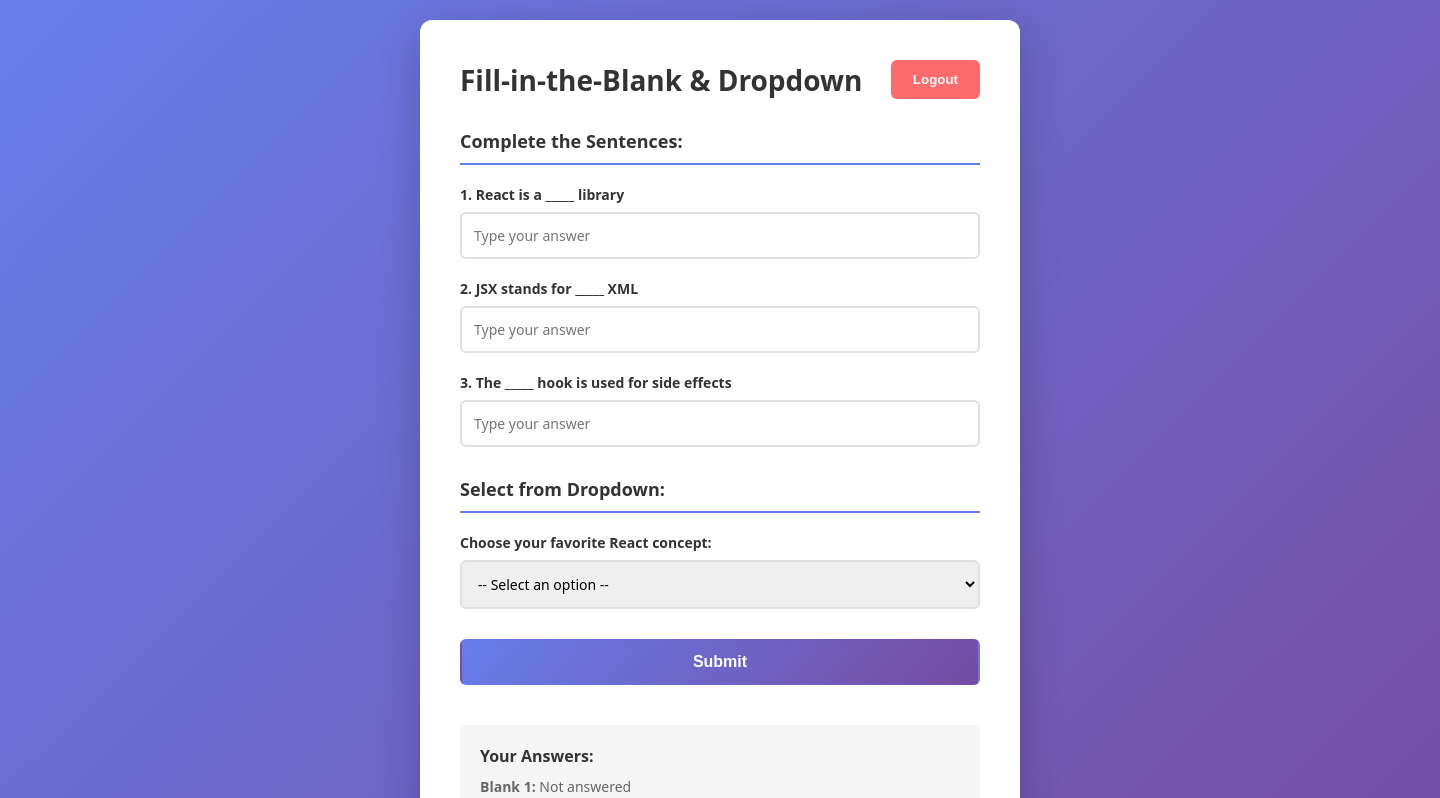
it: FormInteractionsPage - Jest Unit Tests › TEST 5: form submits successfully when all fields are filled
In the field labelled "1. React is a _____ library": point(720, 236) [460,212,980,259], type "JavaScript"
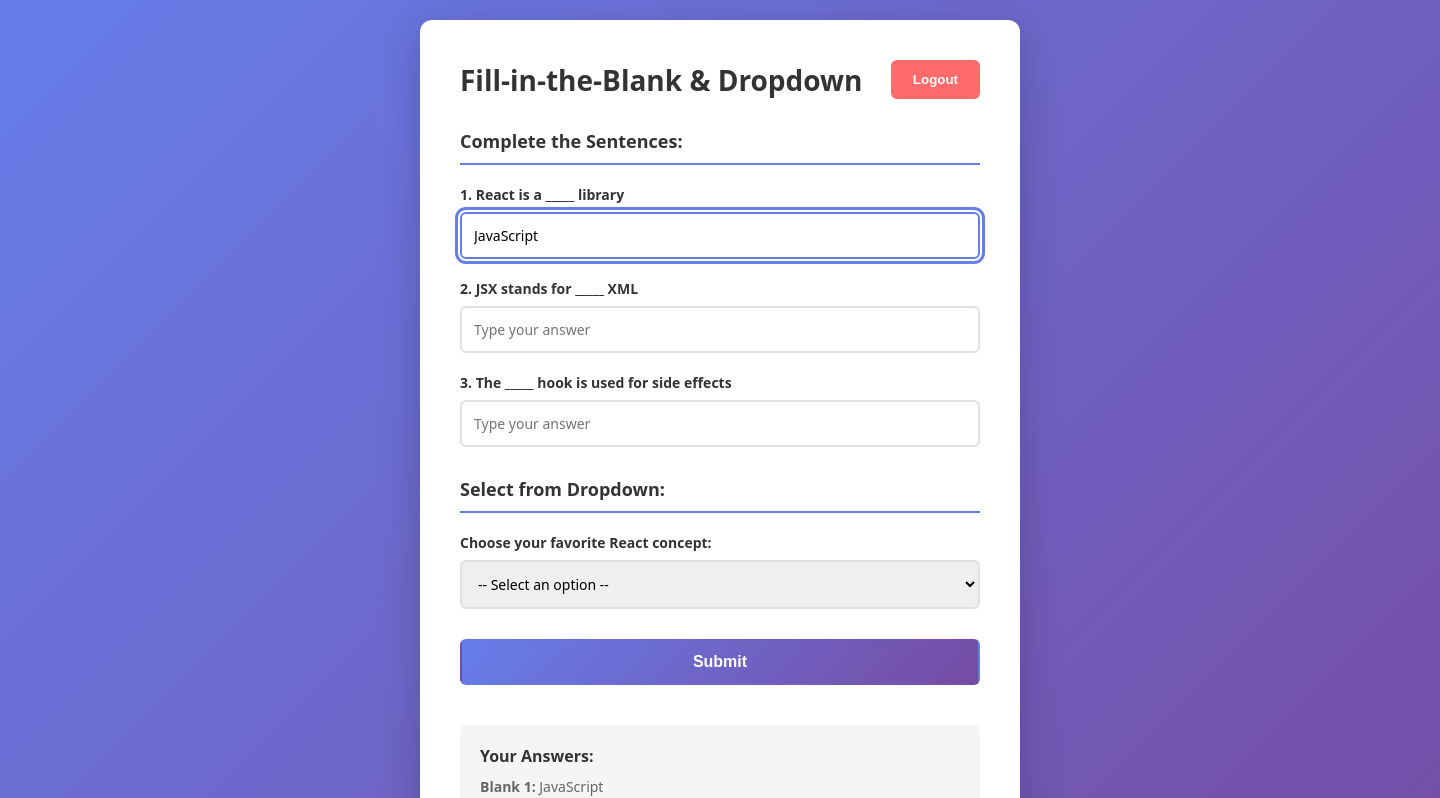
In the field labelled "2. JSX stands for _____ XML": point(720, 330) [460,306,980,353], type "JavaScript"
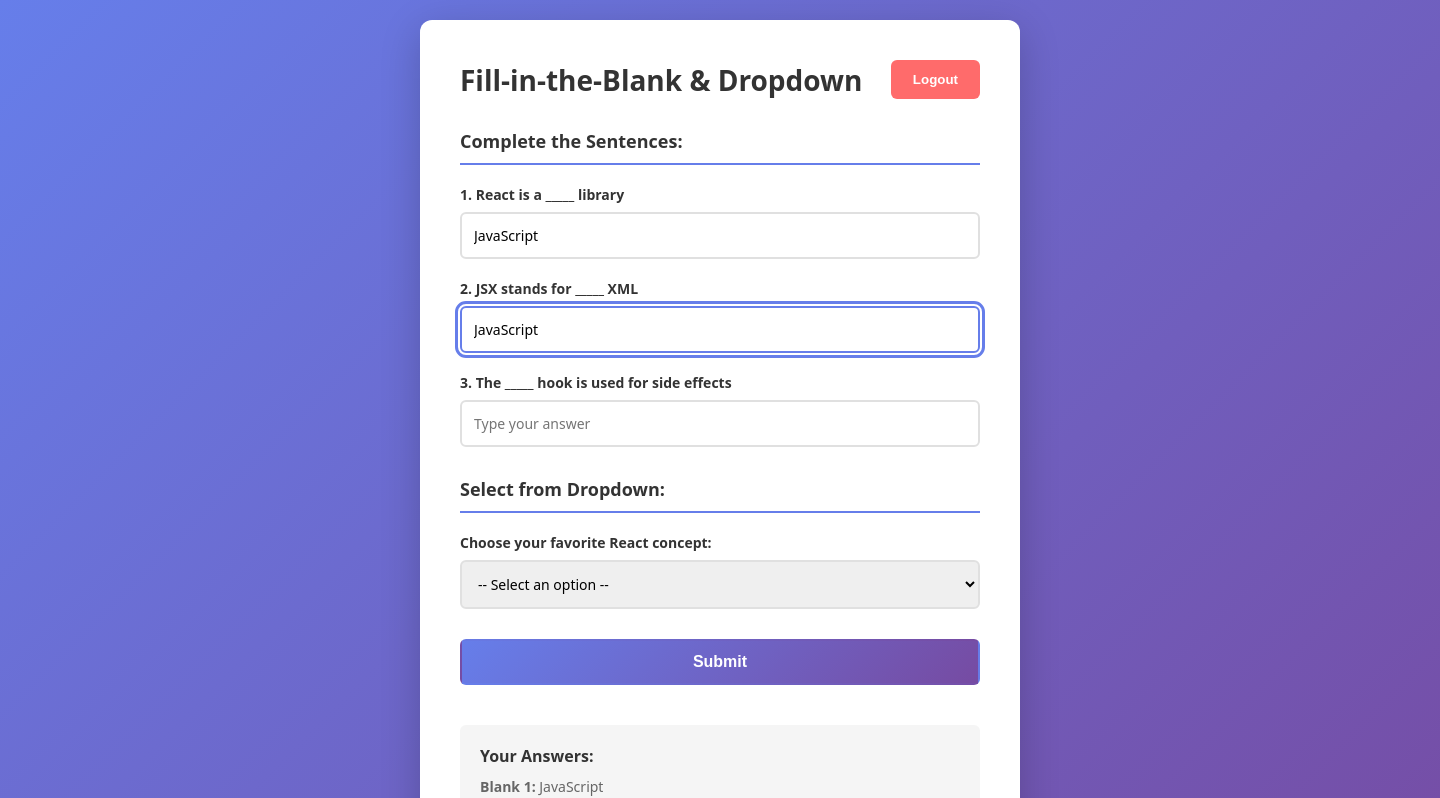
In the field labelled "3. The _____ hook is used for side effects": point(720, 424) [460,400,980,447], type "useEffect"
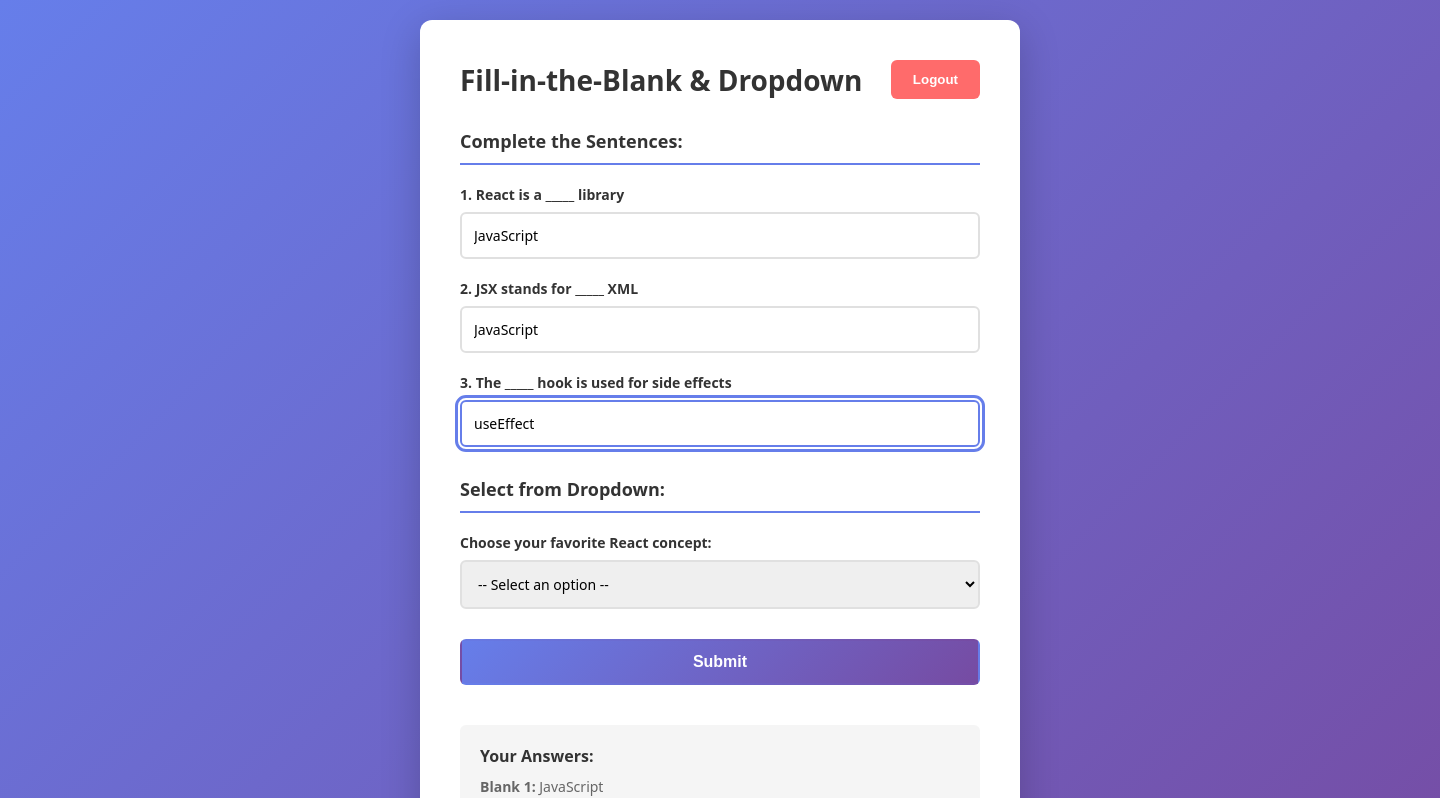
Select "Hooks" in the dropdown labelled "Choose your favorite React concept:": point(720, 584) [460,560,980,609]
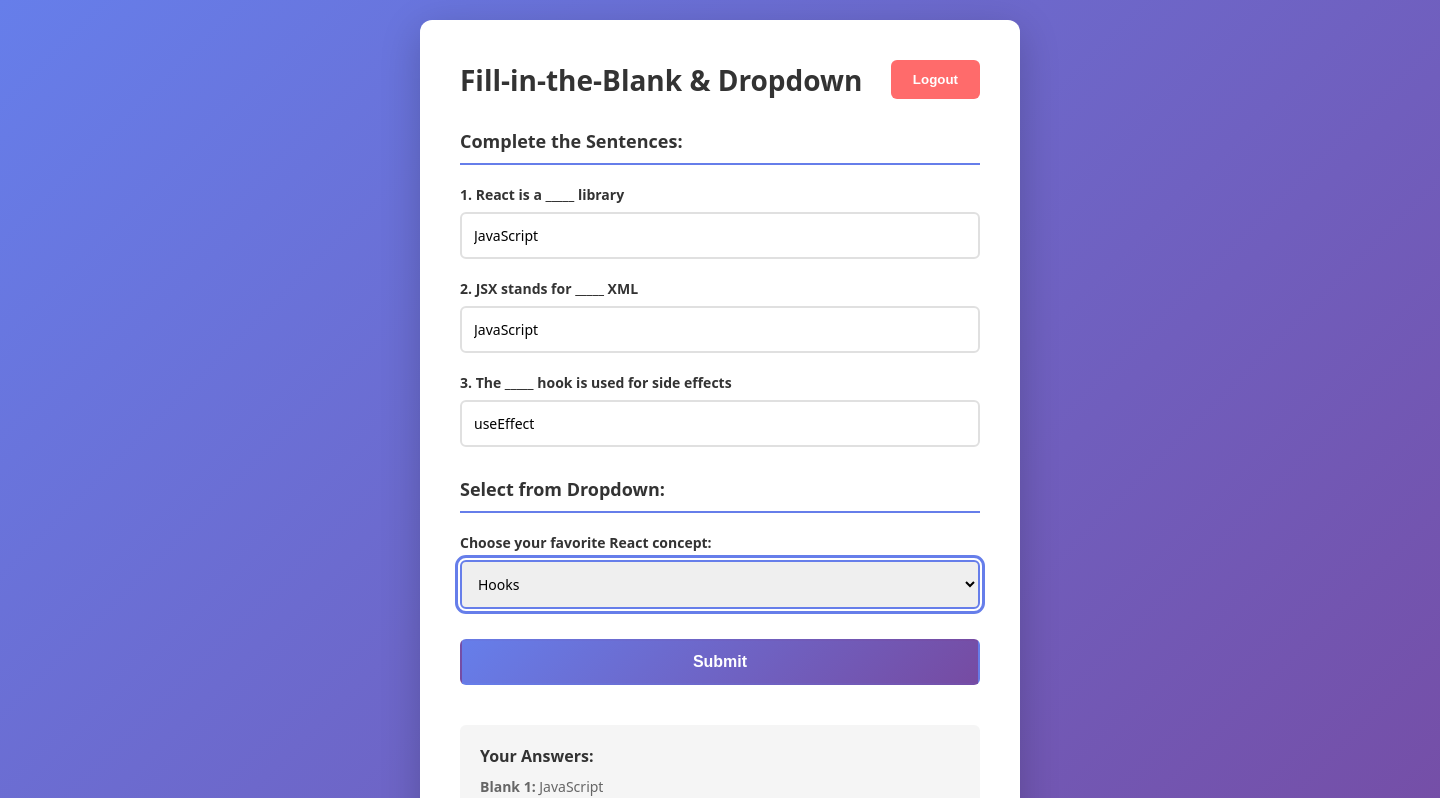
Click the button "Submit": point(720, 662) [460,639,980,685]
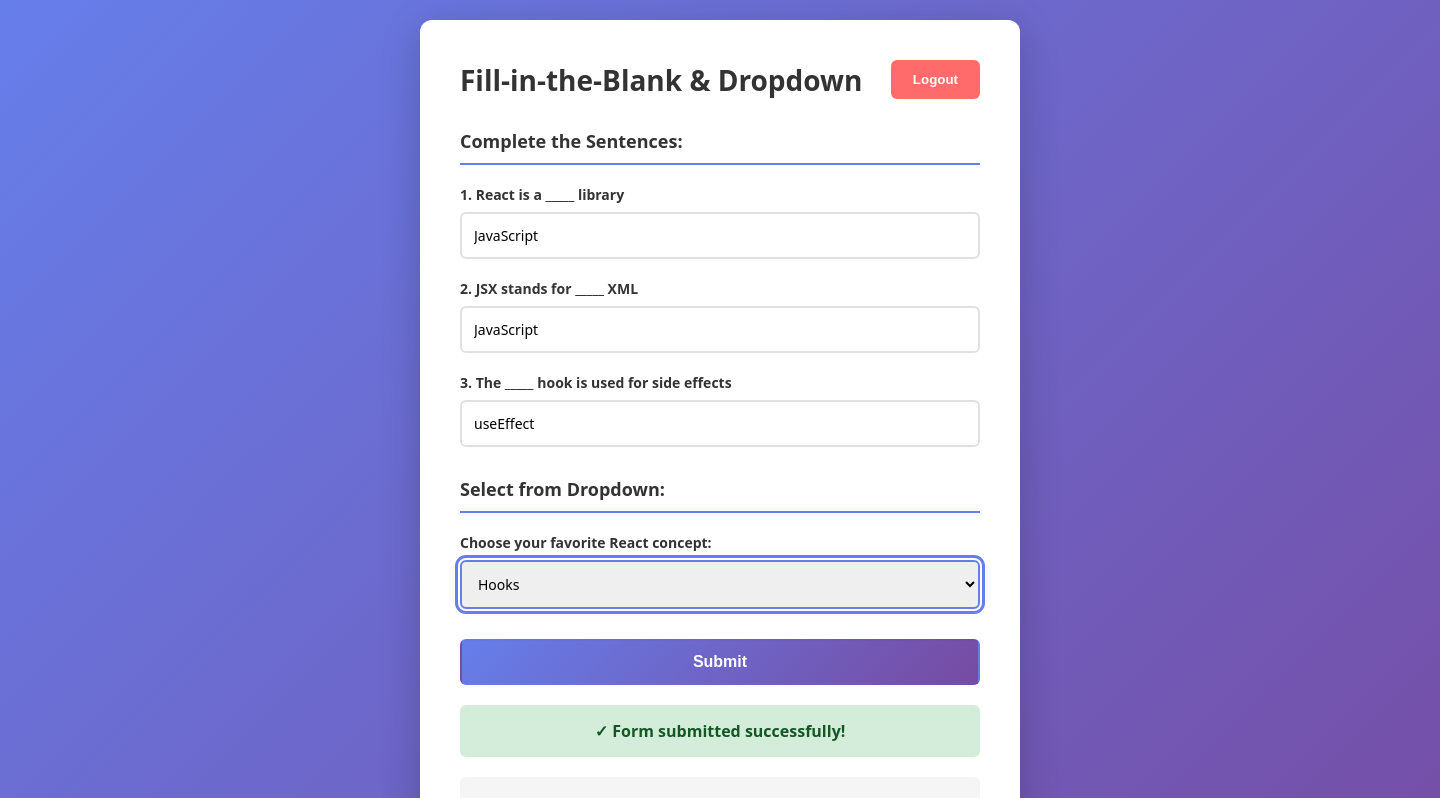
Expected: the text "✓ Form submitted successfully!" is shown, [460,705,980,757]
